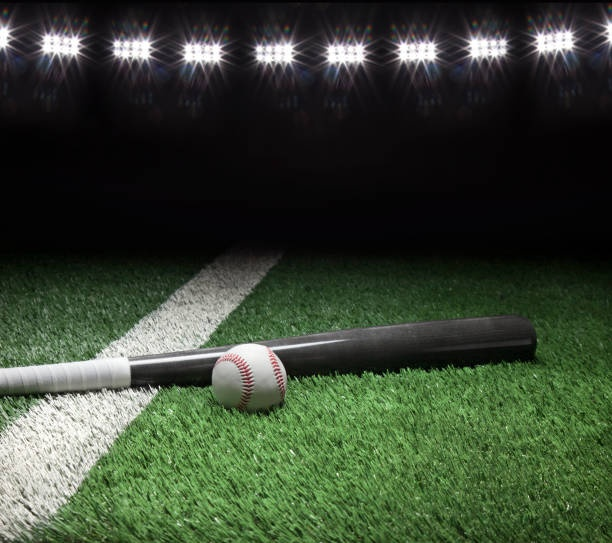bita: (1, 311, 546, 396)
